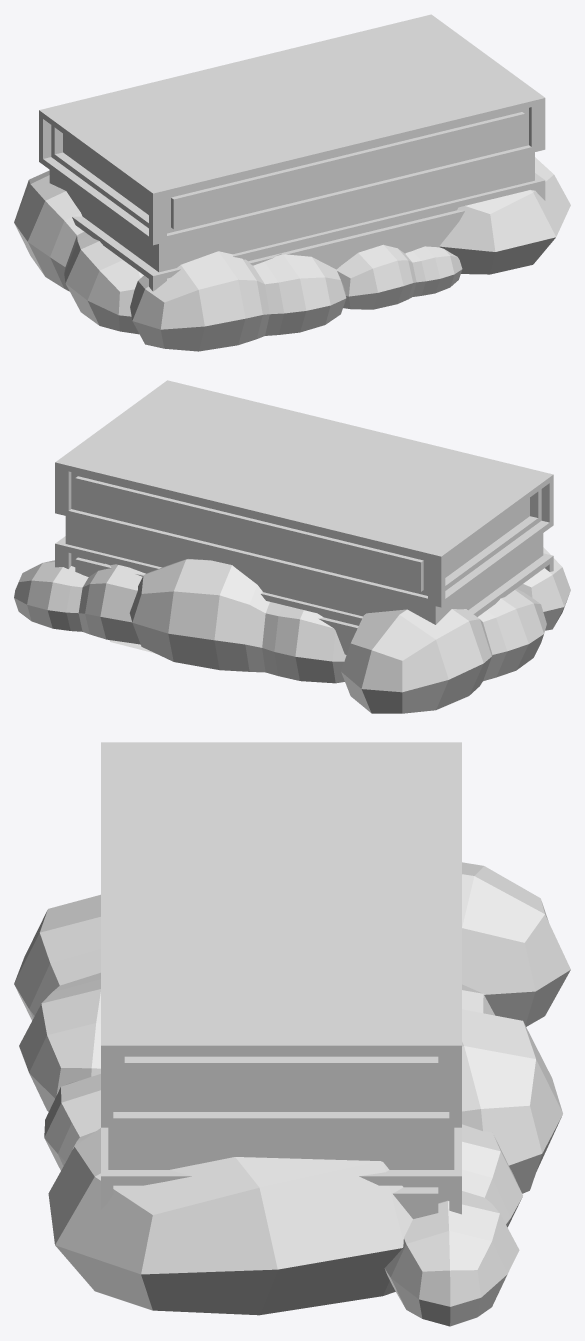
Rendered from MesaBase.fbx.
3 renders of one model, top to bottom at view 1: azimuth 30°, elevation 25°; view 2: azimuth 150°, elevation 25°; view 3: azimuth 270°, elevation 25°, orthographic. The views are drawn at different scales.
Parts seen in each view (by area): view 1: Nubes_BaseMEsa; view 2: Nubes_BaseMEsa; view 3: Nubes_BaseMEsa.
Part boxes in pixels (left/top/right/bottom): Nubes_BaseMEsa: left=14, top=14, right=570, bottom=351; Nubes_BaseMEsa: left=14, top=380, right=570, bottom=713; Nubes_BaseMEsa: left=14, top=742, right=570, bottom=1326.
Size of the model in its own units: 4282 by 1571 by 2788.
